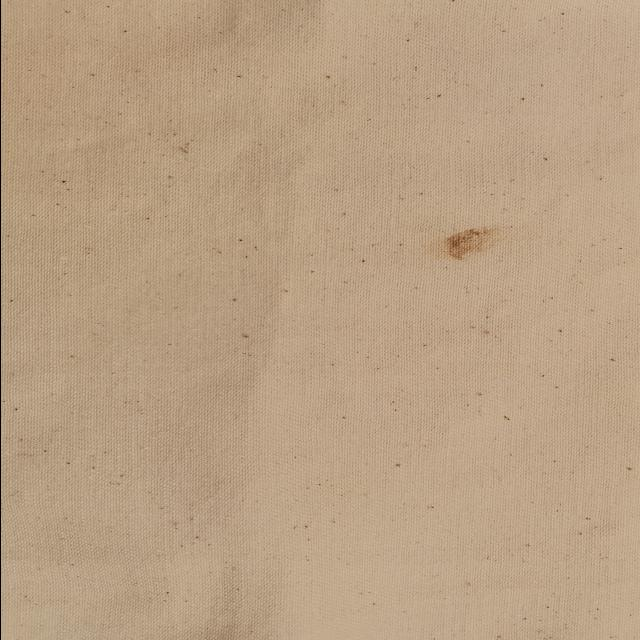taaaches: (434, 224, 510, 266)
